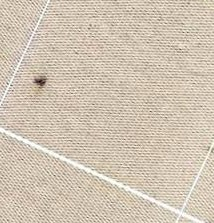stain: (31, 74, 53, 90)
